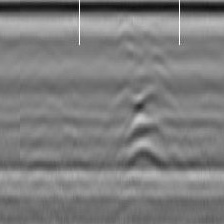Utility: (127, 101, 167, 170)
